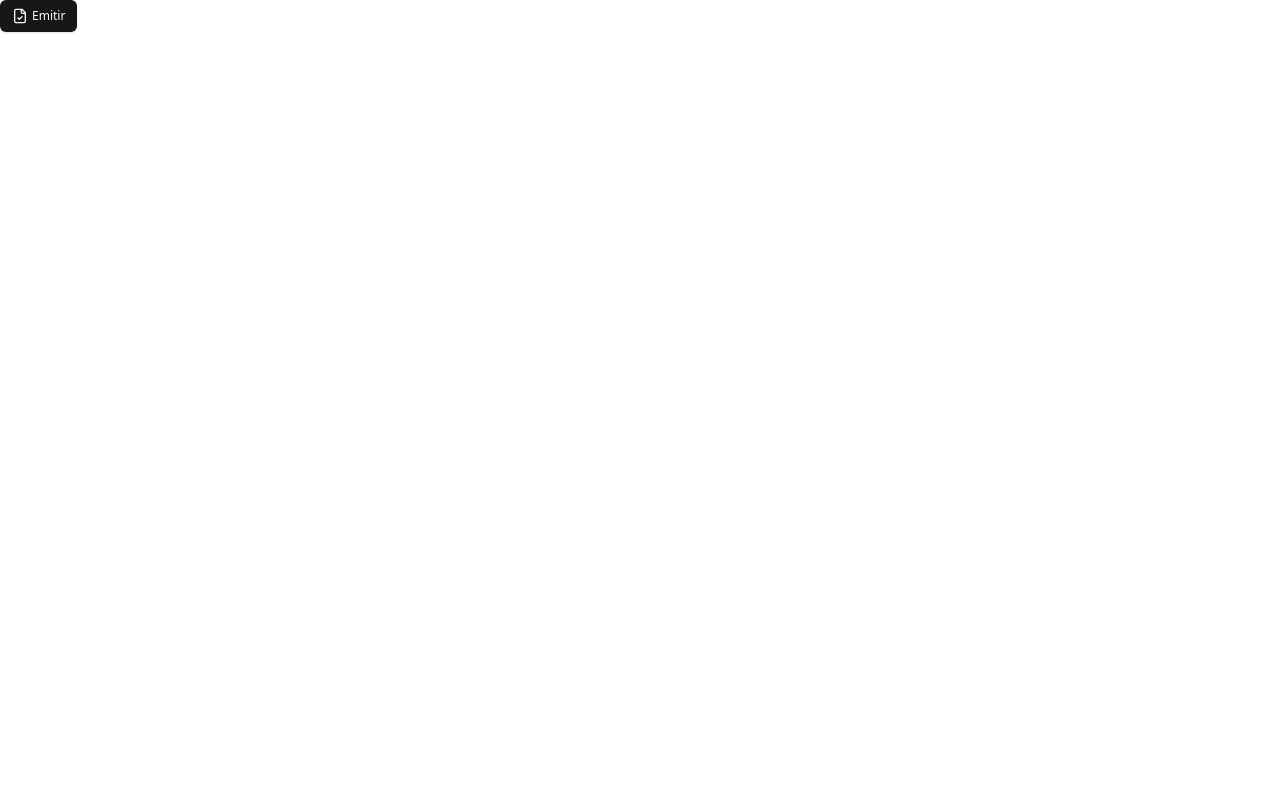
IssueButton › does NOT call onCancel closes dialog
This screenshot has width=1280, height=800.
Click the button "Emitir" at (39, 16), box [0,0,77,32]
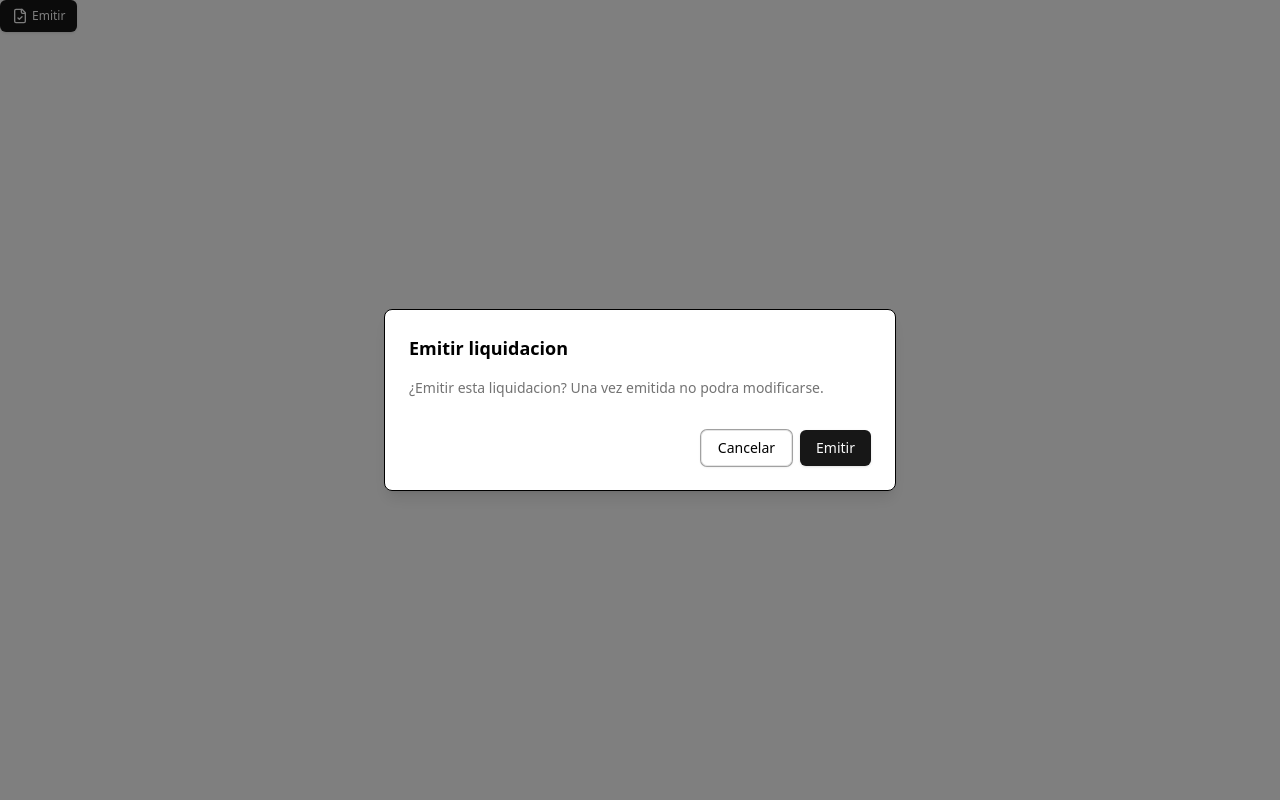
Click the button "Cancelar" at (746, 448), box [701,430,792,466]
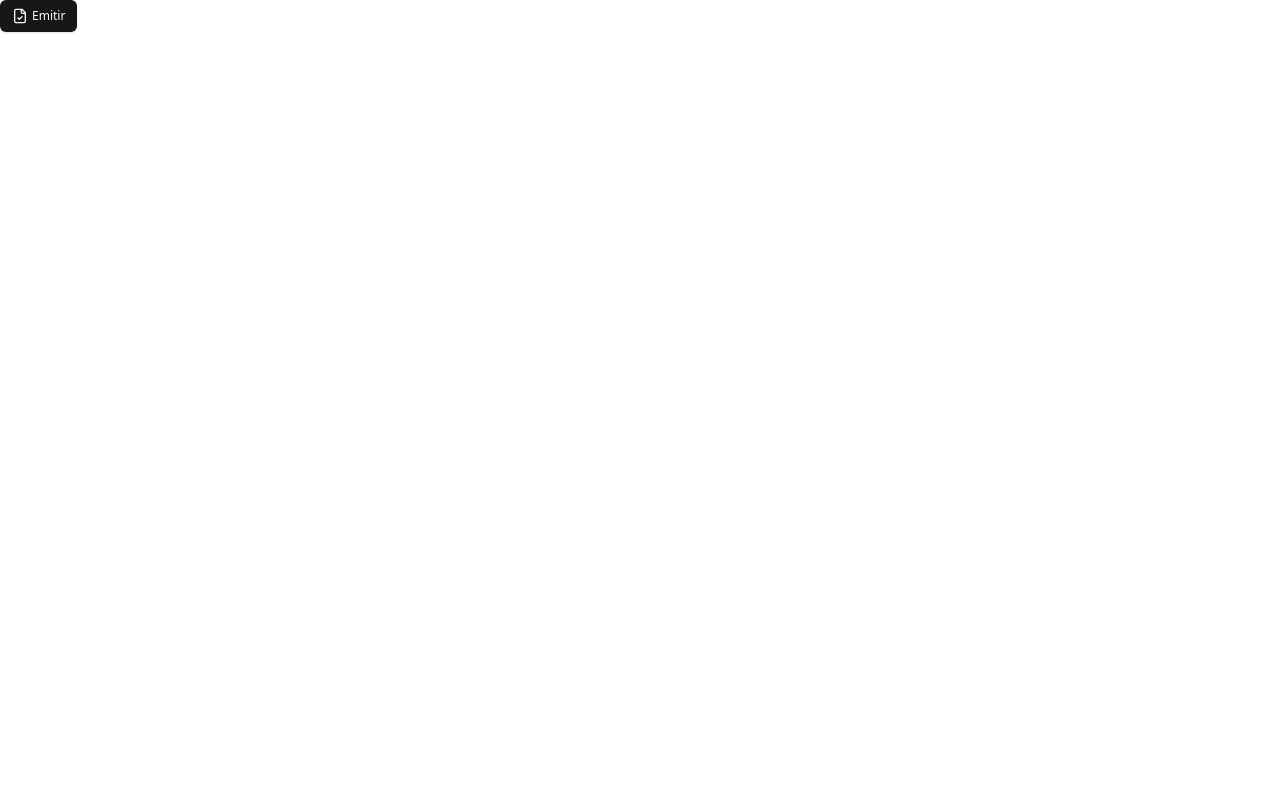
Result: the heading "Emitir liquidacion" is gone
